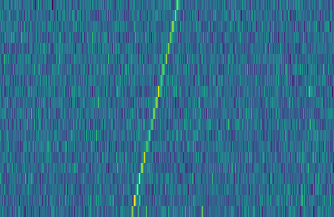signal: (127, 0, 184, 217)
